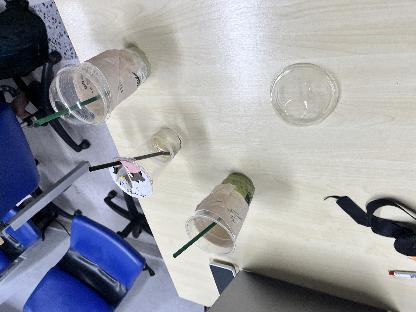Plastic Cup: (54, 45, 140, 133), (182, 169, 258, 258), (112, 127, 184, 197)
